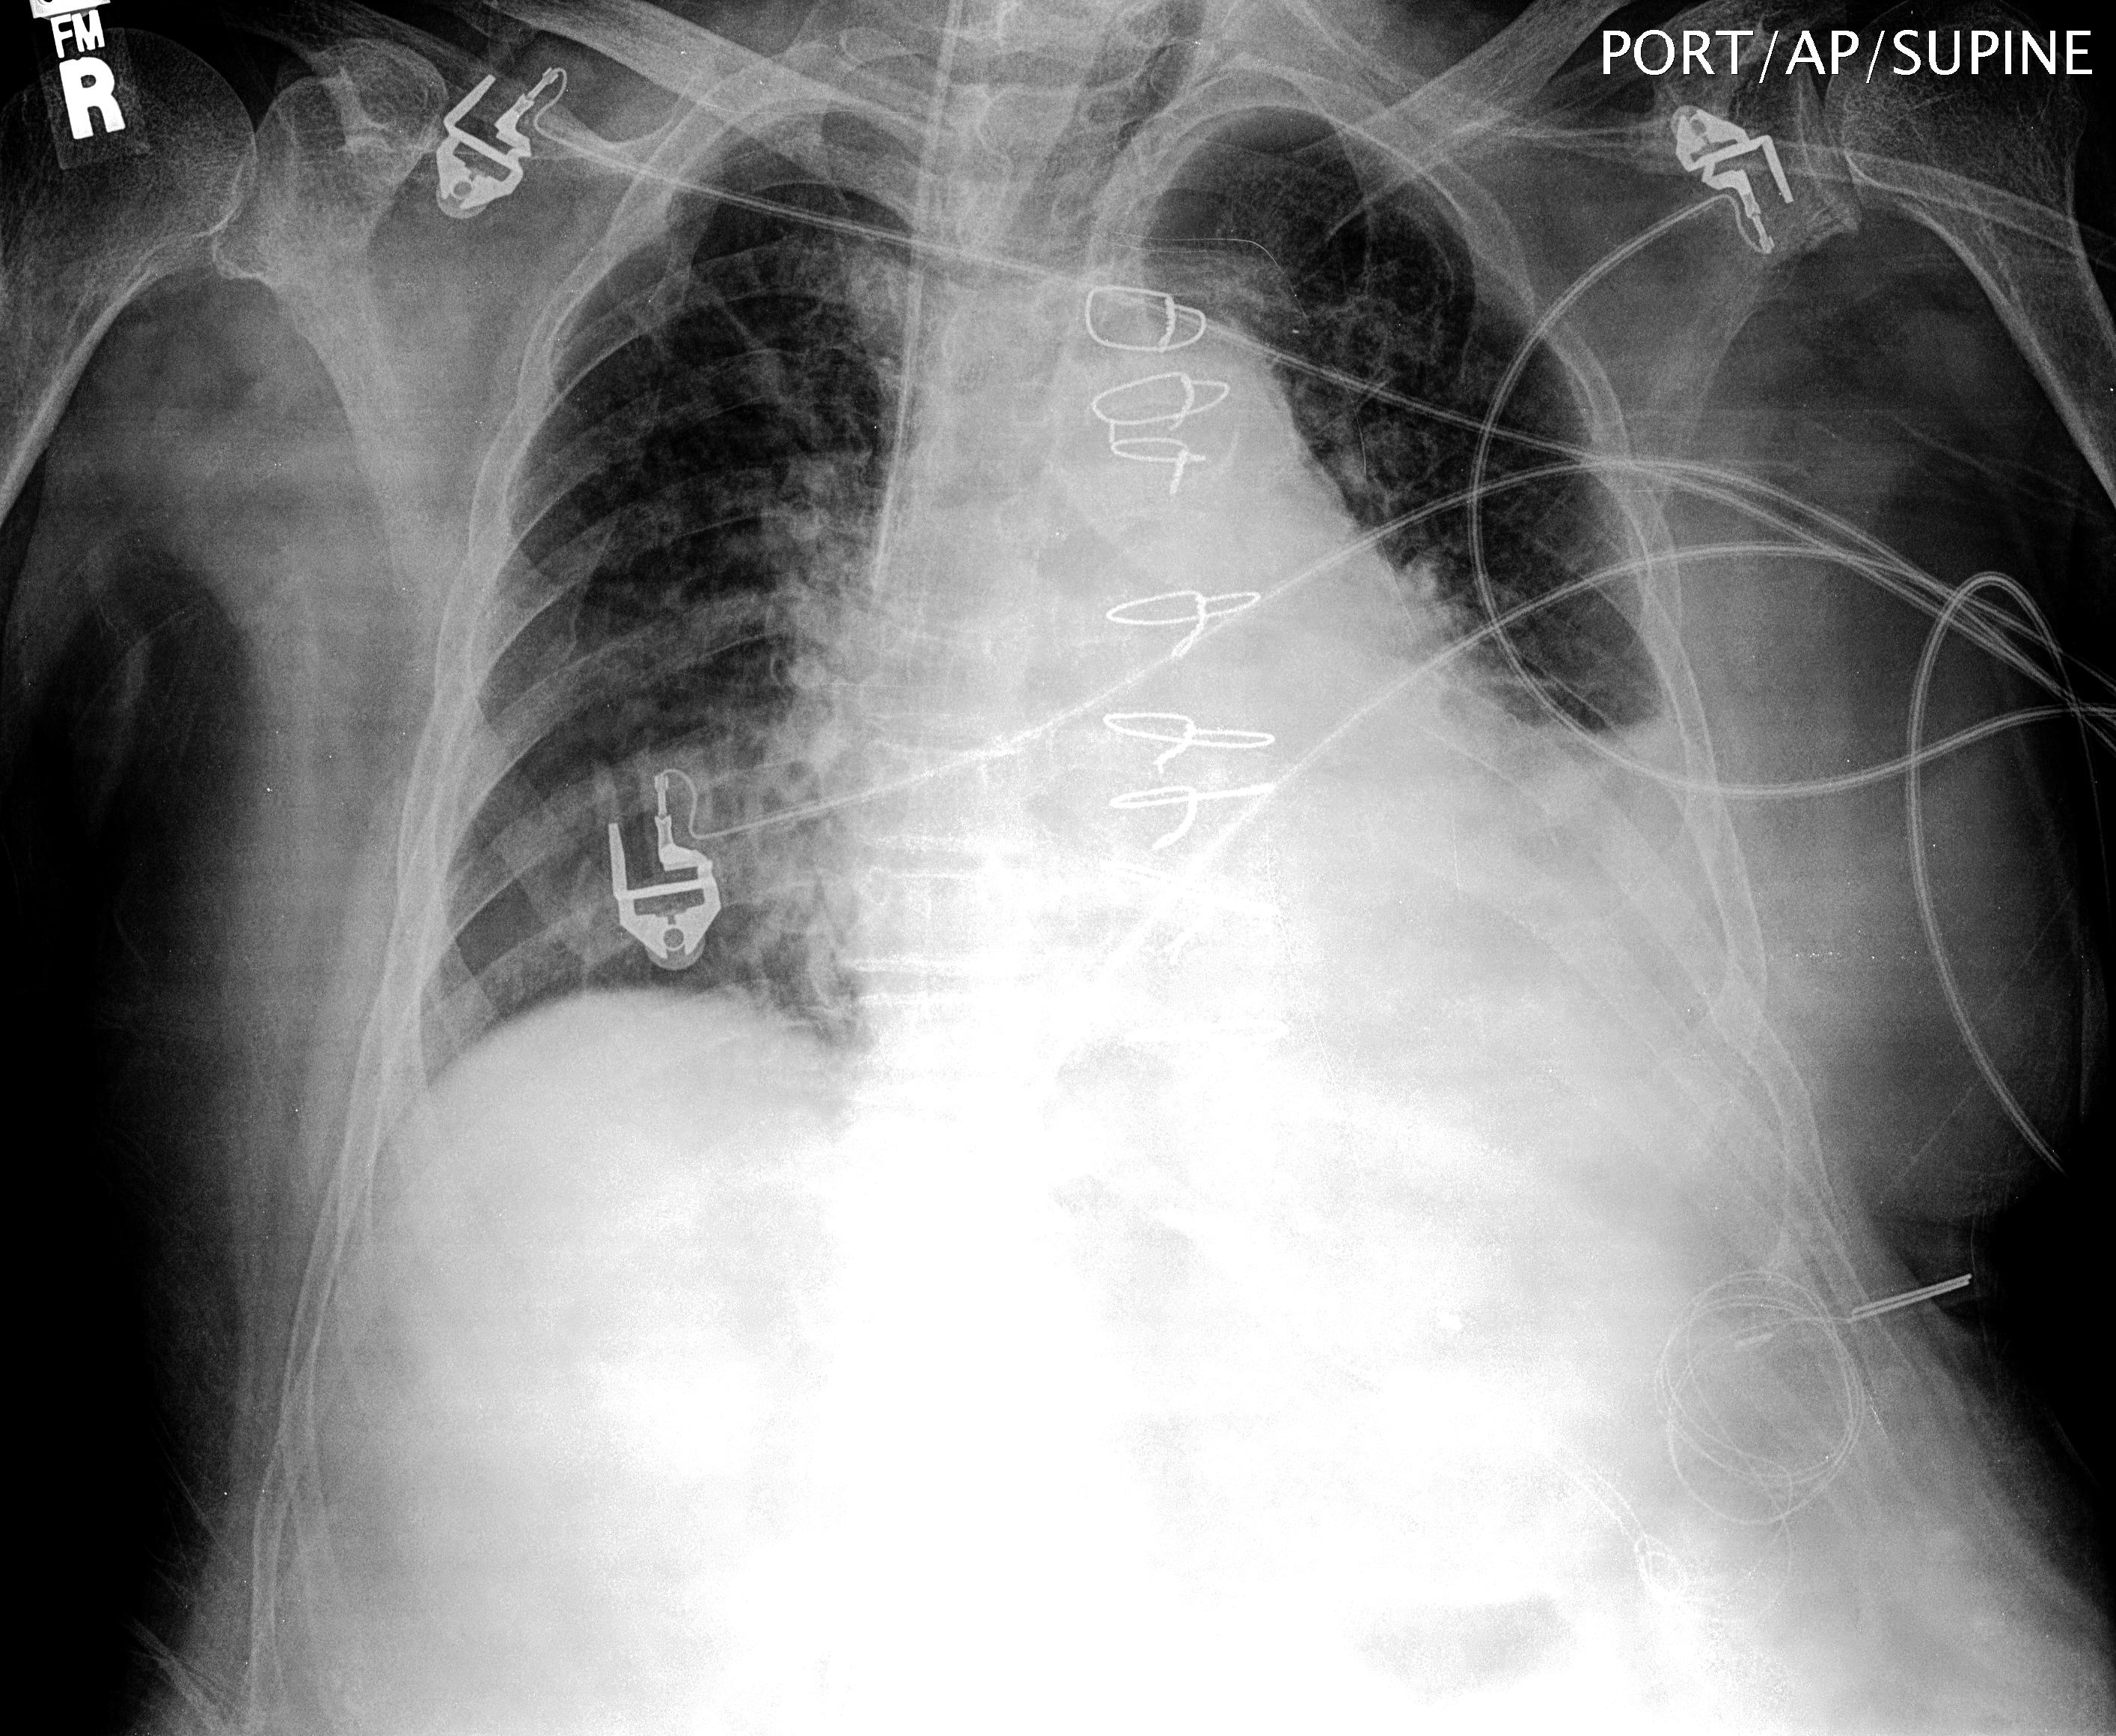Pleural Effusion: (1408, 659, 1742, 1154)
